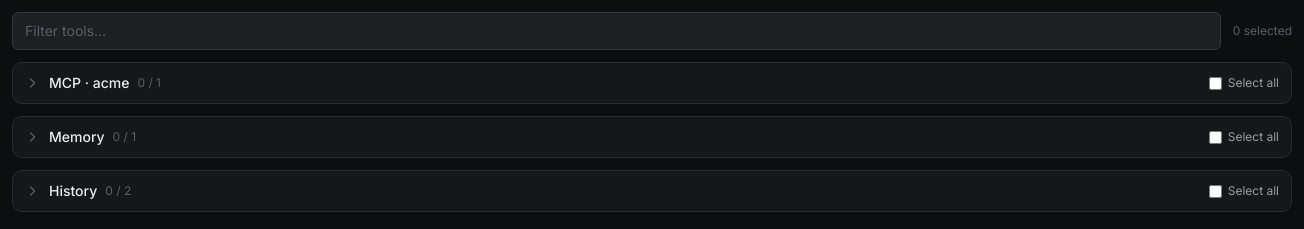
ToolPicker › filter expands matching groups and hides the rest
The width and height of the screenshot is (1304, 229).
Type "index" into the field with placeholder "Filter tools…". click: (616, 31)
box: [12,12,1221,50]
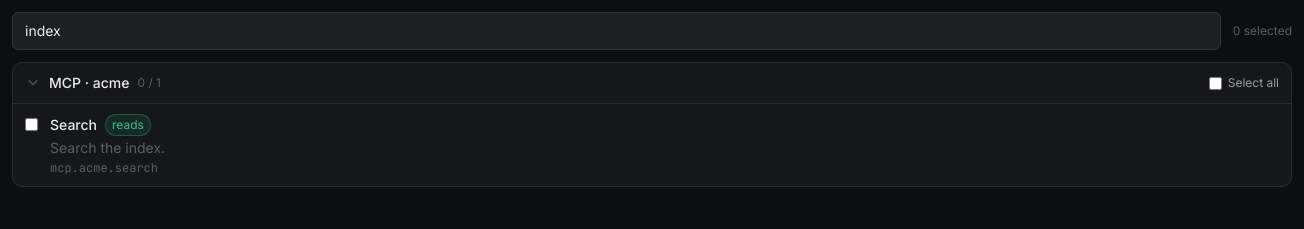
Expected: the text "Search the index." is shown, [50,139,165,156]
Expected: the button "Memory" is gone
